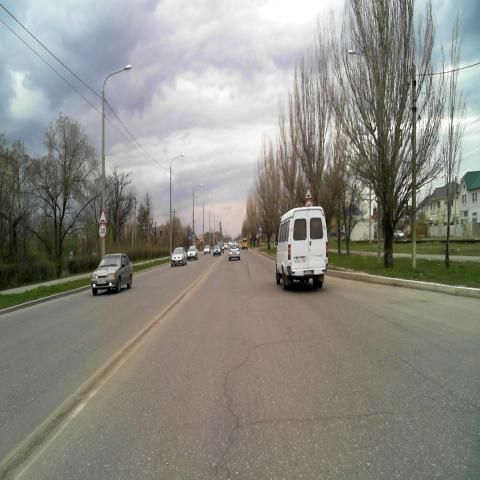1_17: (99, 210, 107, 223)
